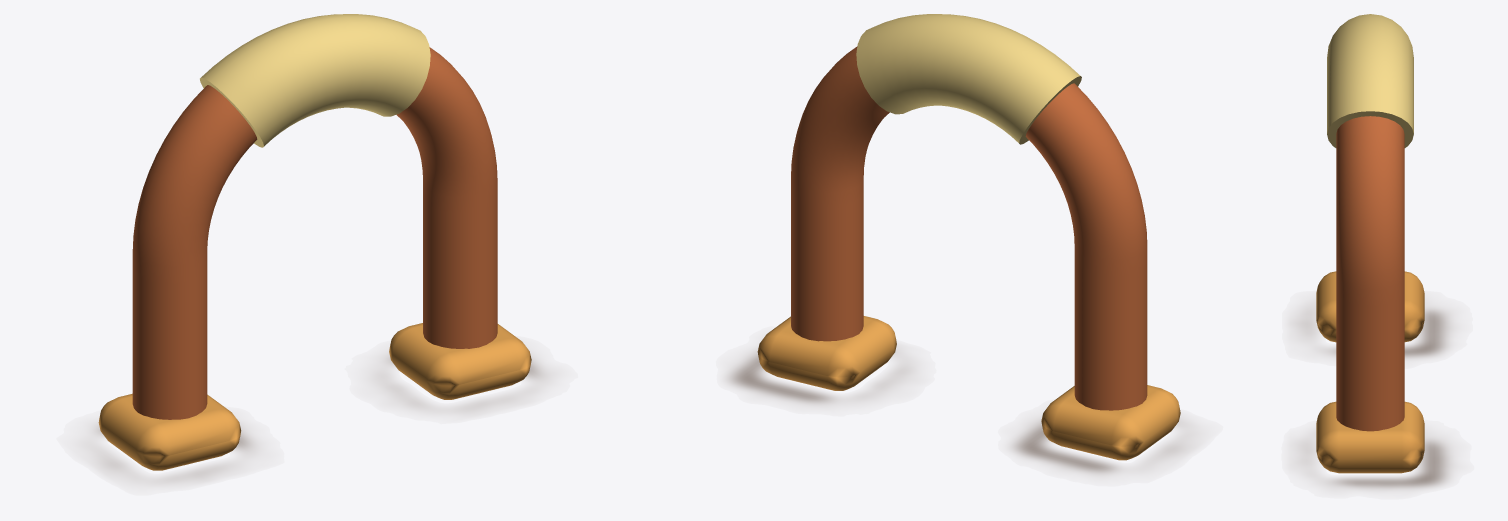
File: track_arch.glb
3 views of the same model, side by side, from view 1: azimuth 30°, elevation 25°; view 2: azimuth 150°, elevation 25°; view 3: azimuth 270°, elevation 25° (orthographic). The views are drawn at different scales.
Parts seen in each view (by area): view 1: arch, arch_beam, foot-1, foot1, baked_shadow; view 2: arch, arch_beam, foot-1, foot1, baked_shadow; view 3: arch, arch_beam, foot1, baked_shadow, foot-1.
Part boxes in pixels (x1=…): arch: x1=132, y1=47, x2=497, y2=419; arch_beam: x1=200, y1=14, x2=430, y2=147; foot-1: x1=98, y1=393, x2=241, y2=470; foot1: x1=389, y1=323, x2=531, y2=399; baked_shadow: x1=96, y1=356, x2=544, y2=480; arch: x1=791, y1=46, x2=1147, y2=410; arch_beam: x1=856, y1=14, x2=1081, y2=144; foot-1: x1=1041, y1=385, x2=1180, y2=460; foot1: x1=757, y1=316, x2=896, y2=390; baked_shadow: x1=728, y1=352, x2=1183, y2=473; arch: x1=1336, y1=116, x2=1404, y2=431; arch_beam: x1=1327, y1=14, x2=1413, y2=147; foot1: x1=1316, y1=401, x2=1424, y2=473; baked_shadow: x1=1298, y1=309, x2=1450, y2=488; foot-1: x1=1316, y1=271, x2=1424, y2=342.
Size of the model in its own units: 4.57 by 3.48 by 1.9.
4 materials, 1 textured.
